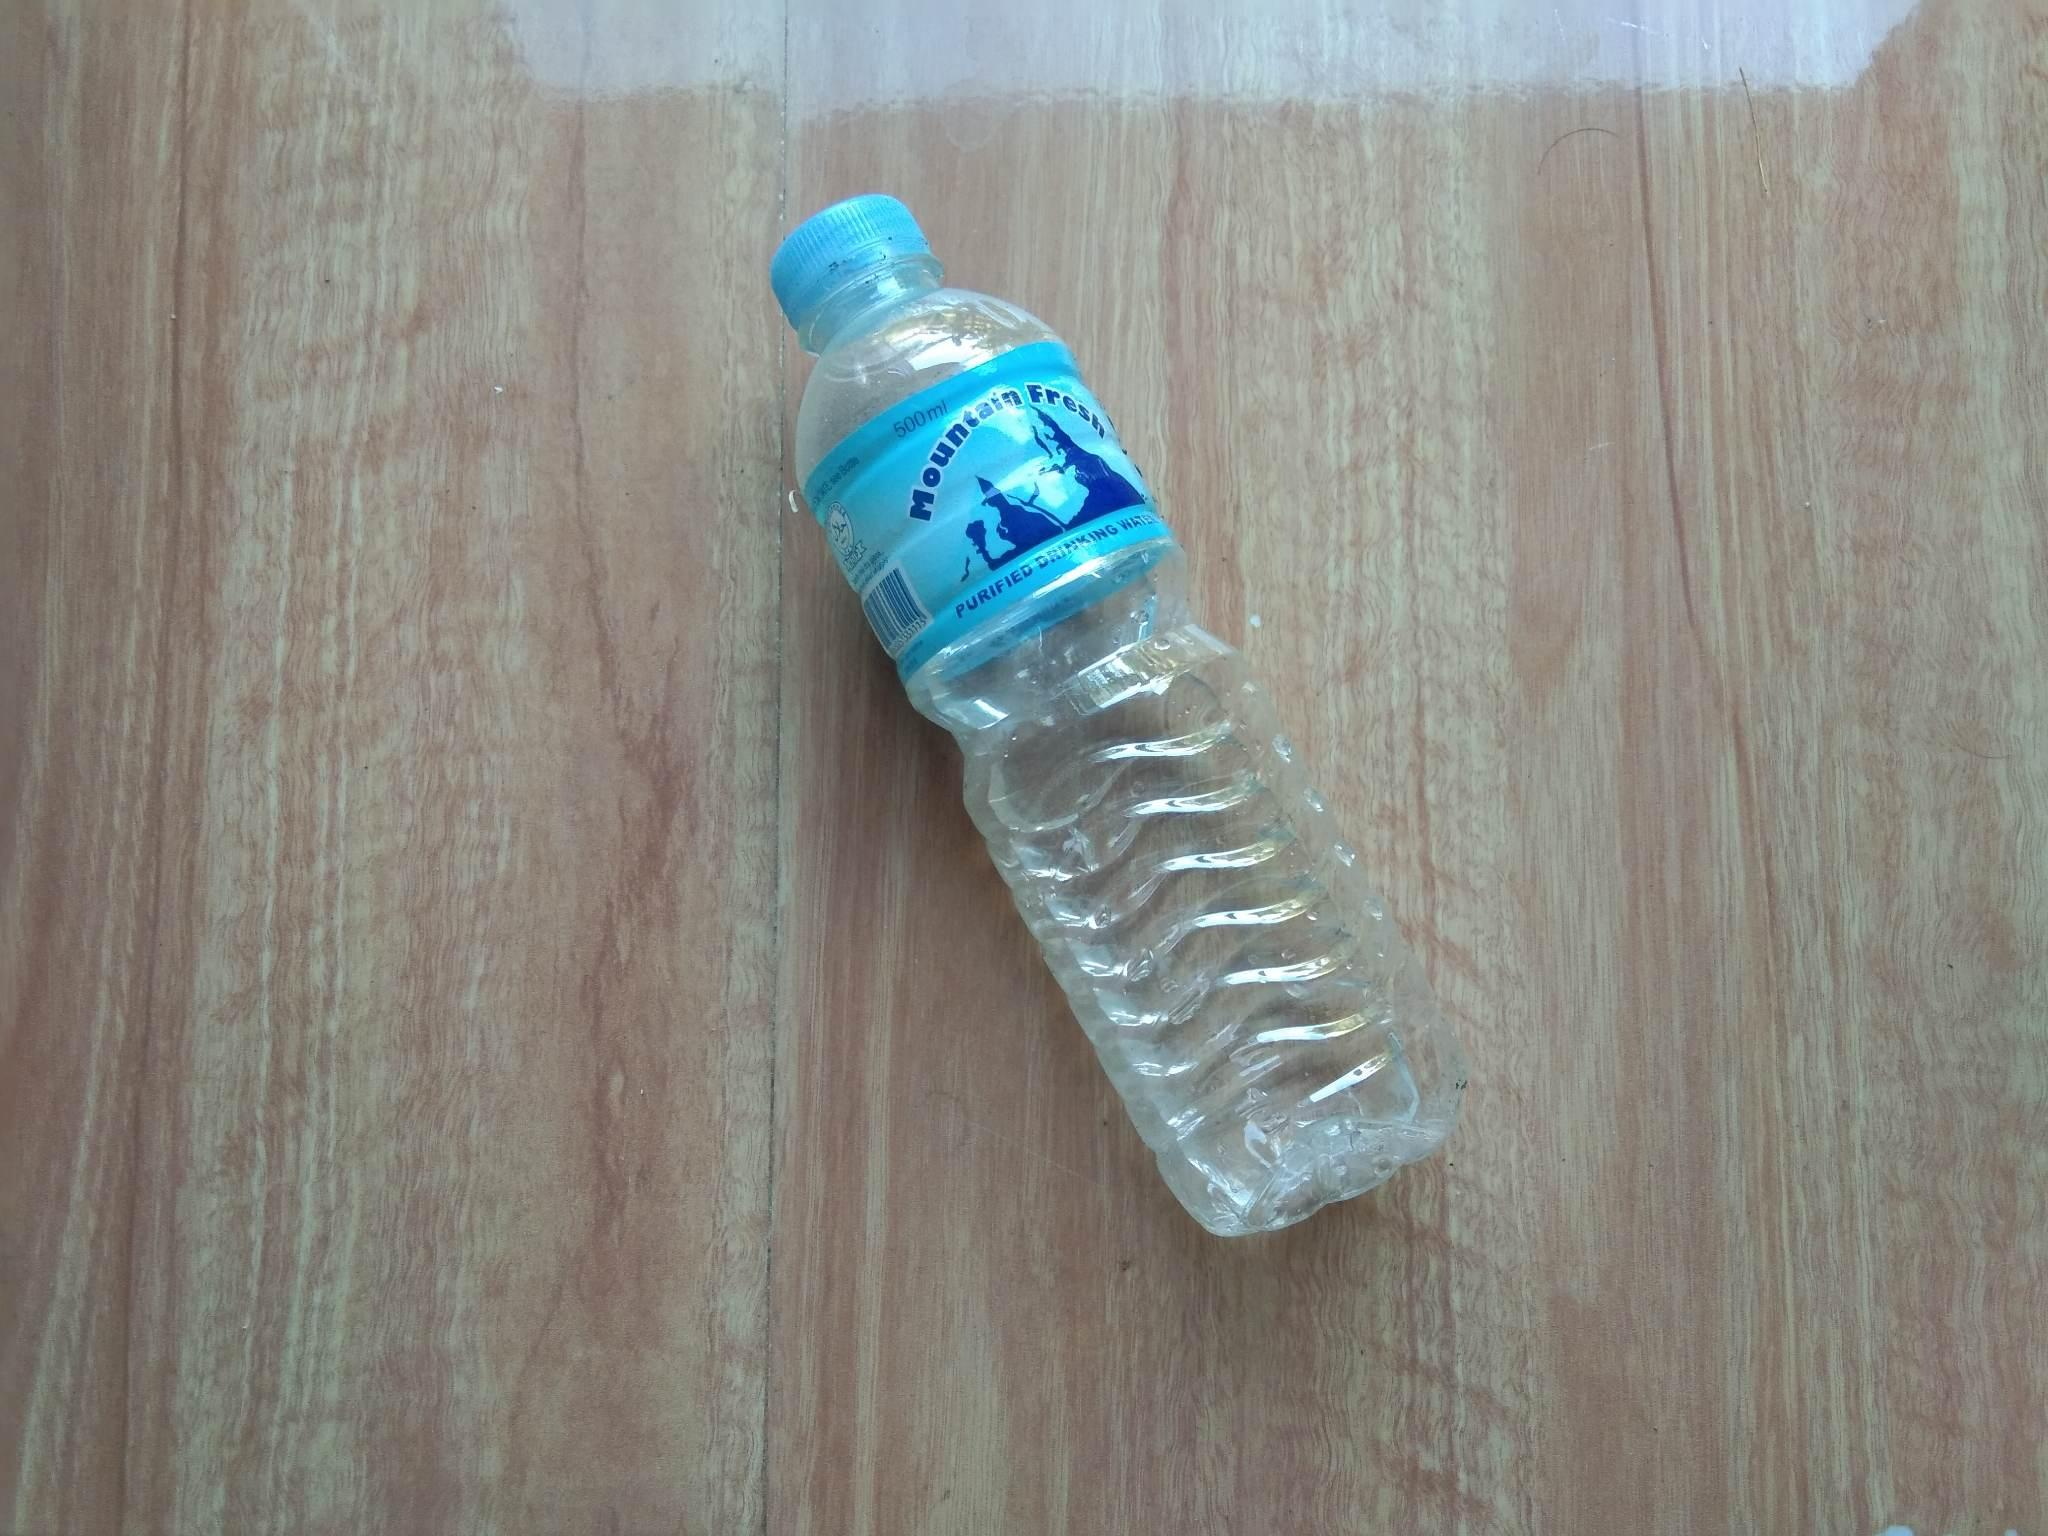plastic: (637, 123, 1508, 1328)
